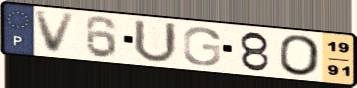6: (83, 14, 119, 60)
8: (238, 31, 271, 72)
G: (181, 26, 223, 68)
O: (277, 33, 322, 78)
U: (132, 17, 180, 65)
V: (32, 10, 80, 55)
